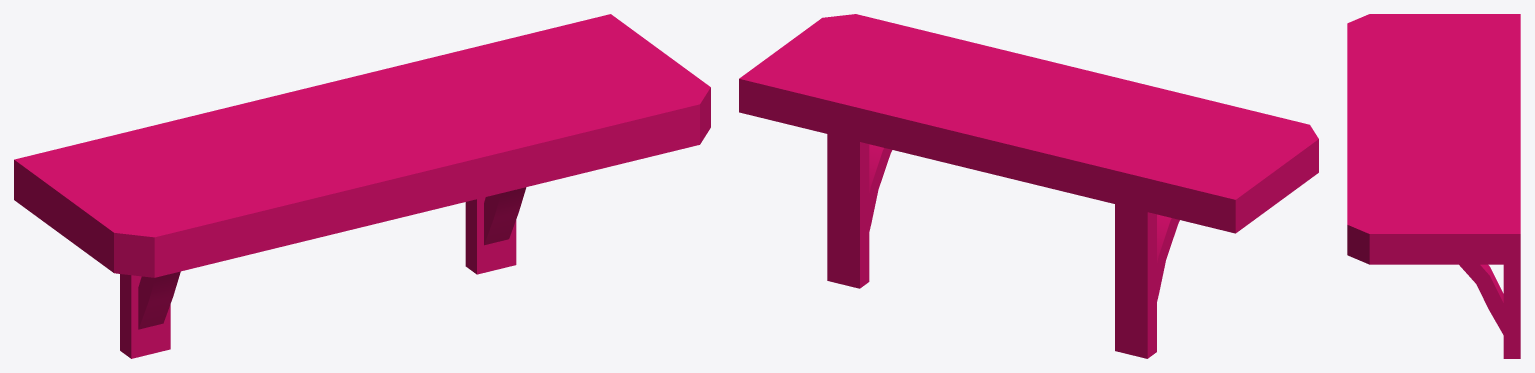
Rendered from CTS_E_Shelf.fbx.
3 views of the same model, side by side, from view 1: azimuth 30°, elevation 25°; view 2: azimuth 150°, elevation 25°; view 3: azimuth 270°, elevation 25° (orthographic). The views are drawn at different scales.
Parts seen in each view (by area): view 1: CTS_E_Shelf; view 2: CTS_E_Shelf; view 3: CTS_E_Shelf.
Part boxes in pixels (x1,y1,x2,y2): CTS_E_Shelf: (14, 14, 710, 358); CTS_E_Shelf: (739, 14, 1318, 358); CTS_E_Shelf: (1347, 14, 1520, 358).
Size of the model in its own units: 133 by 46.23 by 44.35.
